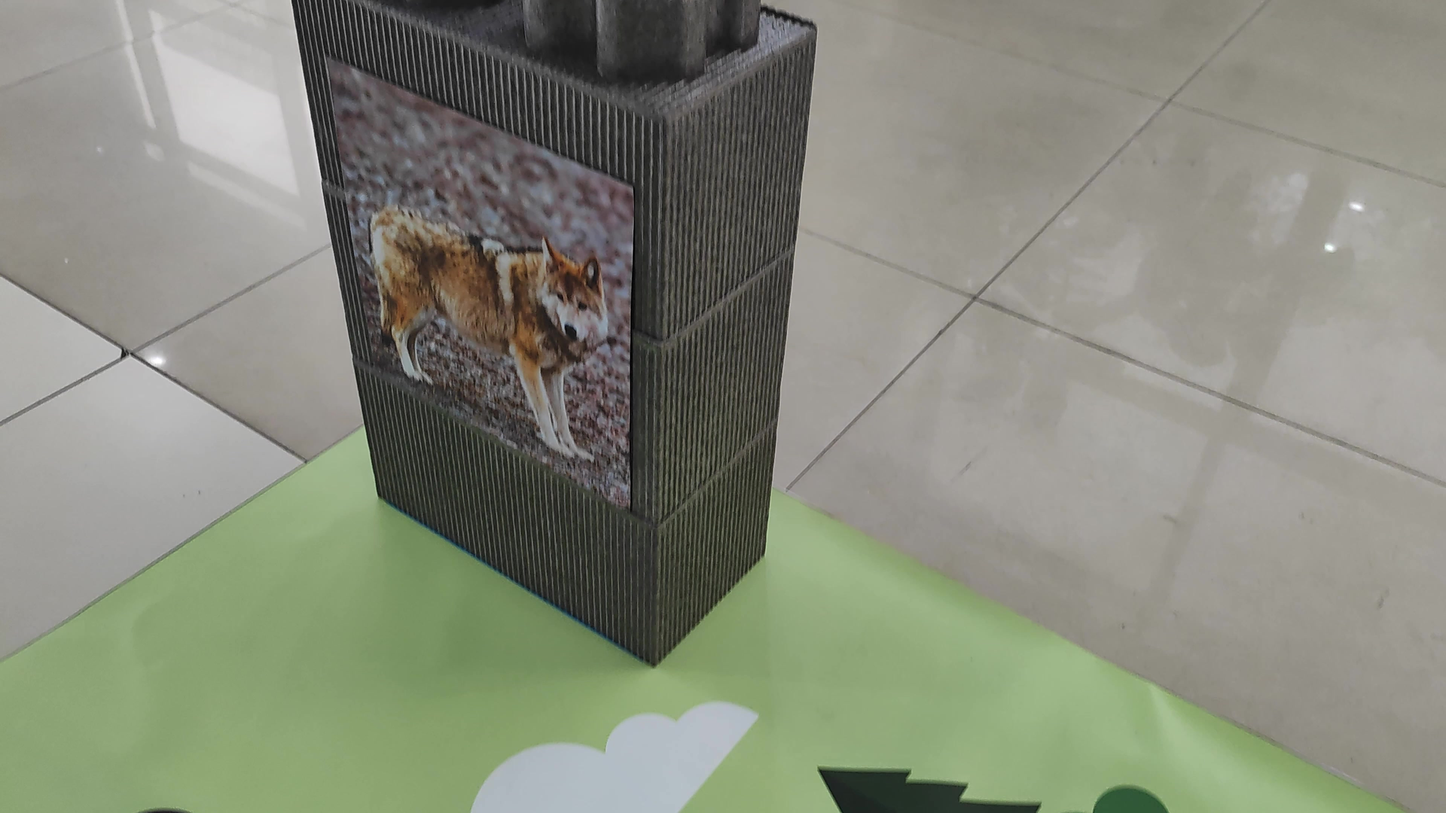wolf: (363, 172, 626, 475)
